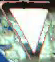Give way: (0, 1, 52, 58)
